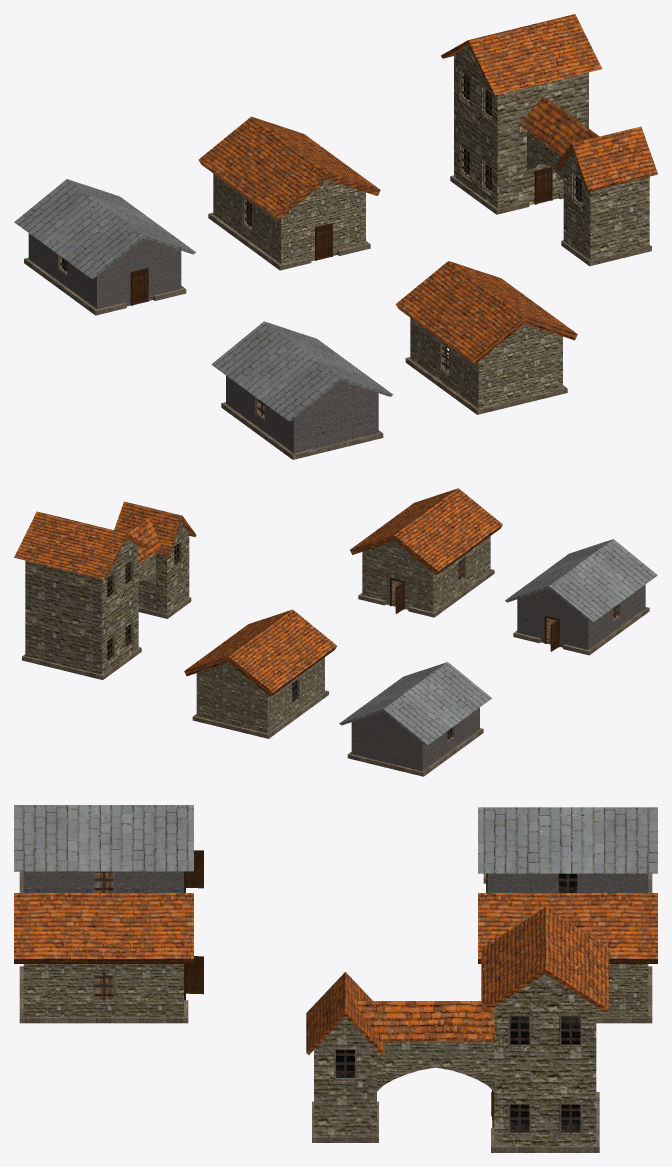
File: market building pack 1.fbx
3 renders of one model, top to bottom at view 1: azimuth 30°, elevation 25°; view 2: azimuth 150°, elevation 25°; view 3: azimuth 270°, elevation 25°, orthographic. The views are drawn at different scales.
Visible parts, largest first — view 1: Roof, Big Tower, Cube.035, Cube.023, Cube.014, Cube.034, Cube.025, Cube.010, Cube.024, Small Tower, Cube.009, Barn.Big.Door.002 (+2 smaller); view 2: Big Tower, Roof, Cube.034, Cube.023, Cube.035, Cube.014, Cube.025, Cube.010, Cube.009, Cube.024, Small Tower; view 3: Roof, Big Tower, Cube.023, Cube.010, Cube.025, Cube.014, Cube.035, Small Tower, Cube.009, Cube.024, hallway, Cube.034 (+4 smaller).
Boxes of the visible parts, box(x1,y1,x2,y2) form: Roof: box(441, 14, 657, 191); Big Tower: box(450, 46, 588, 214); Cube.035: box(198, 116, 380, 220); Cube.023: box(395, 261, 577, 364); Cube.014: box(405, 318, 567, 414); Cube.034: box(208, 173, 370, 270); Cube.025: box(211, 321, 393, 421); Cube.010: box(14, 179, 195, 278); Cube.024: box(221, 375, 383, 459); Small Tower: box(561, 152, 651, 266); Cube.009: box(24, 233, 186, 315); Barn.Big.Door.002: box(130, 268, 148, 305); Big Tower: box(22, 539, 141, 679); Roof: box(14, 501, 196, 579); Cube.034: box(192, 657, 328, 738); Cube.023: box(350, 488, 502, 575); Cube.035: box(184, 609, 336, 696); Cube.014: box(358, 536, 494, 617); Cube.025: box(505, 539, 657, 622); Cube.010: box(339, 662, 491, 745); Cube.009: box(347, 707, 483, 776); Cube.024: box(513, 584, 649, 655); Small Tower: box(138, 523, 191, 618); Roof: box(306, 907, 609, 1054); Big Tower: box(491, 974, 599, 1152); Cube.023: box(14, 893, 193, 963); Cube.010: box(478, 807, 657, 873); Cube.025: box(14, 805, 193, 871); Cube.014: box(19, 964, 188, 1023); Cube.035: box(478, 893, 657, 963); Small Tower: box(312, 1017, 378, 1142); Cube.009: box(483, 873, 652, 892); Cube.024: box(19, 871, 183, 892); hallway: box(377, 1041, 494, 1067); Cube.034: box(596, 964, 652, 1023).
Size of the model in its own units: 51.8 by 15.34 by 47.82.
